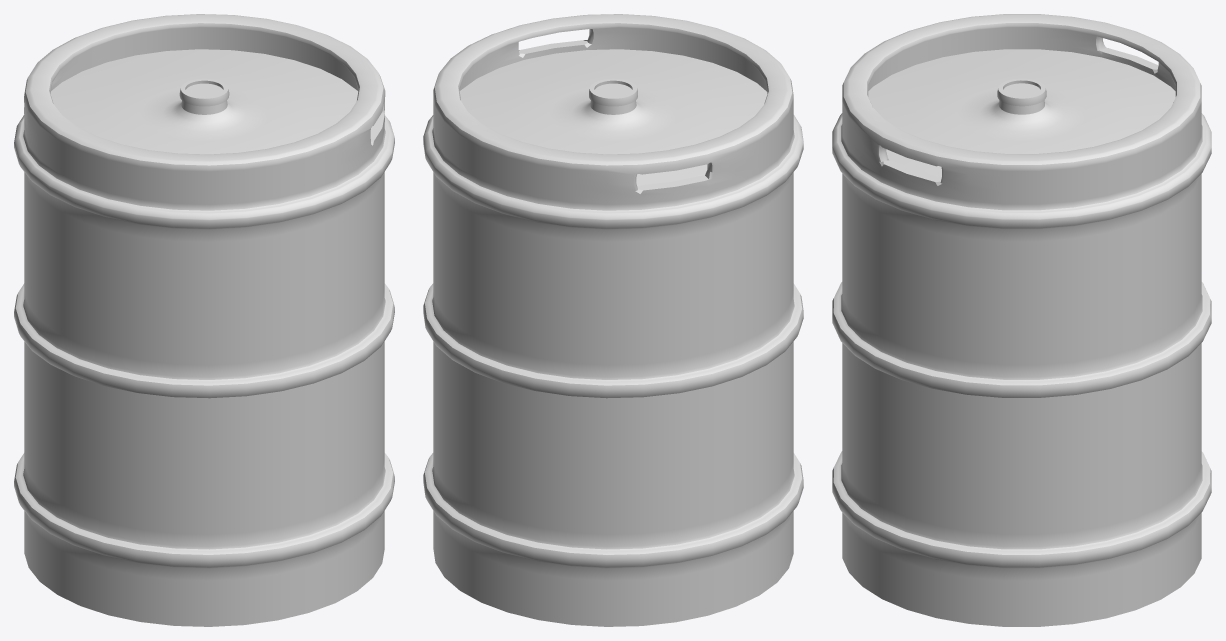
The model's file is Bathroom_And_Misc_3.fbx.
The picture shows the model from 3 angles, left to right: view 1: azimuth 30°, elevation 25°; view 2: azimuth 150°, elevation 25°; view 3: azimuth 270°, elevation 25°; orthographic projection.
Visible parts, largest first — view 1: Cylinder.004; view 2: Cylinder.004; view 3: Cylinder.004.
Boxes of the visible parts, left/top/right/bottom form: Cylinder.004: left=14, top=14, right=394, bottom=626; Cylinder.004: left=423, top=14, right=803, bottom=626; Cylinder.004: left=832, top=14, right=1211, bottom=626.
Size of the model in its own units: 52.11 by 70.19 by 52.11.
